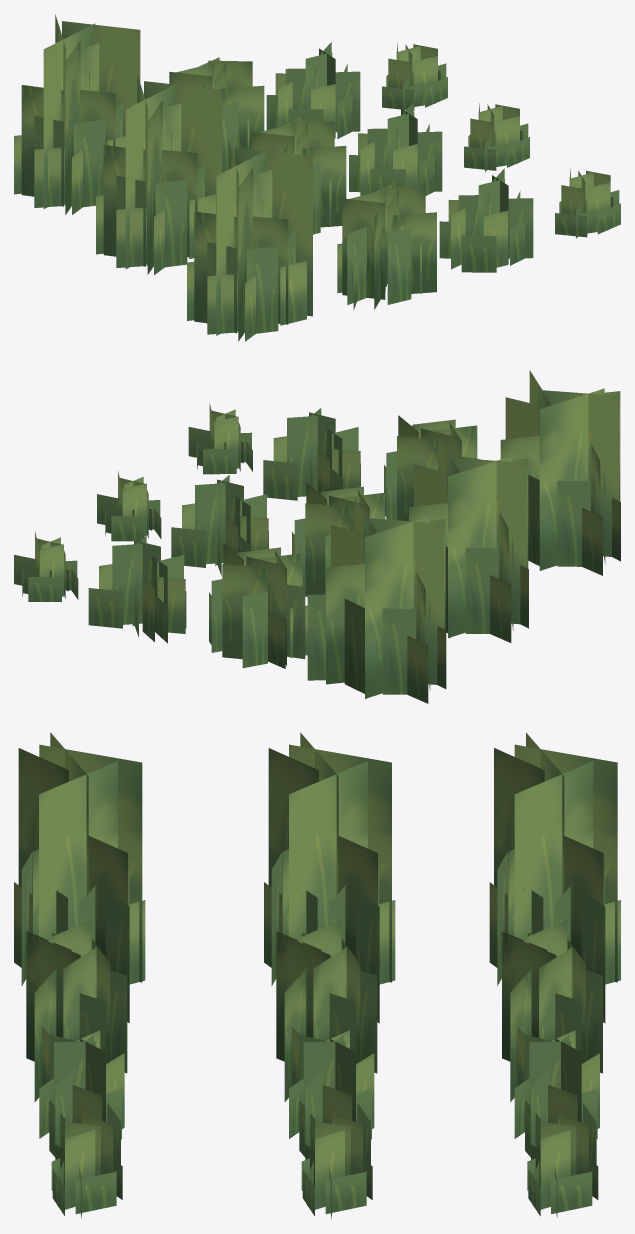
File: GrassNew.fbx
3 renders of one model, top to bottom at view 1: azimuth 30°, elevation 25°; view 2: azimuth 150°, elevation 25°; view 3: azimuth 270°, elevation 25°, orthographic. The views are drawn at different scales.
Parts seen in each view (by area): view 1: Object_6.004, Object_5.004, Object_11.004, Object_6.003, Object_6.002, Object_5.002, Object_11.002, Object_5.003, Object_11.003, Object_6.001, Object_5.001, Object_11.001; view 2: Object_11.004, Object_6.004, Object_5.004, Object_11.003, Object_11.002, Object_6.002, Object_5.002, Object_5.003, Object_6.003, Object_6.001, Object_5.001, Object_11.001; view 3: Object_6.004, Object_5.004, Object_11.004, Object_6.003, Object_5.003, Object_11.003, Object_11.002, Object_6.002, Object_5.002, Object_5.001, Object_11.001, Object_6.001.
Part boxes in pixels (x1,y1,x2,y2): Object_6.004: (187, 141, 312, 341); Object_5.004: (96, 74, 222, 274); Object_11.004: (14, 14, 140, 214); Object_6.003: (337, 184, 436, 310); Object_6.002: (439, 168, 533, 272); Object_5.002: (349, 102, 442, 195); Object_11.002: (266, 42, 360, 138); Object_5.003: (251, 117, 346, 234); Object_11.003: (169, 57, 264, 172); Object_6.001: (555, 168, 620, 238); Object_5.001: (464, 103, 529, 171); Object_11.001: (382, 43, 447, 110); Object_11.004: (307, 498, 446, 703); Object_6.004: (500, 370, 620, 575); Object_5.004: (409, 438, 528, 642); Object_11.003: (209, 543, 307, 668); Object_11.002: (88, 535, 186, 643); Object_6.002: (263, 408, 360, 500); Object_5.002: (171, 475, 268, 575); Object_5.003: (292, 482, 385, 596); Object_6.003: (384, 415, 479, 520); Object_6.001: (188, 403, 252, 474); Object_5.001: (97, 471, 161, 541); Object_11.001: (14, 531, 78, 601); Object_6.004: (14, 732, 145, 1023); Object_5.004: (264, 732, 395, 1023); Object_11.004: (489, 732, 620, 1023); Object_6.003: (26, 920, 127, 1102); Object_5.003: (276, 920, 377, 1101); Object_11.003: (502, 920, 602, 1101); Object_11.002: (514, 1034, 599, 1164); Object_6.002: (39, 1034, 124, 1164); Object_5.002: (289, 1034, 374, 1164); Object_5.001: (301, 1115, 372, 1219); Object_11.001: (527, 1115, 598, 1217); Object_6.001: (51, 1115, 122, 1218).
Bounding box in the file's own units: 215 × 237 × 88.48.
3 materials, 3 textured.
